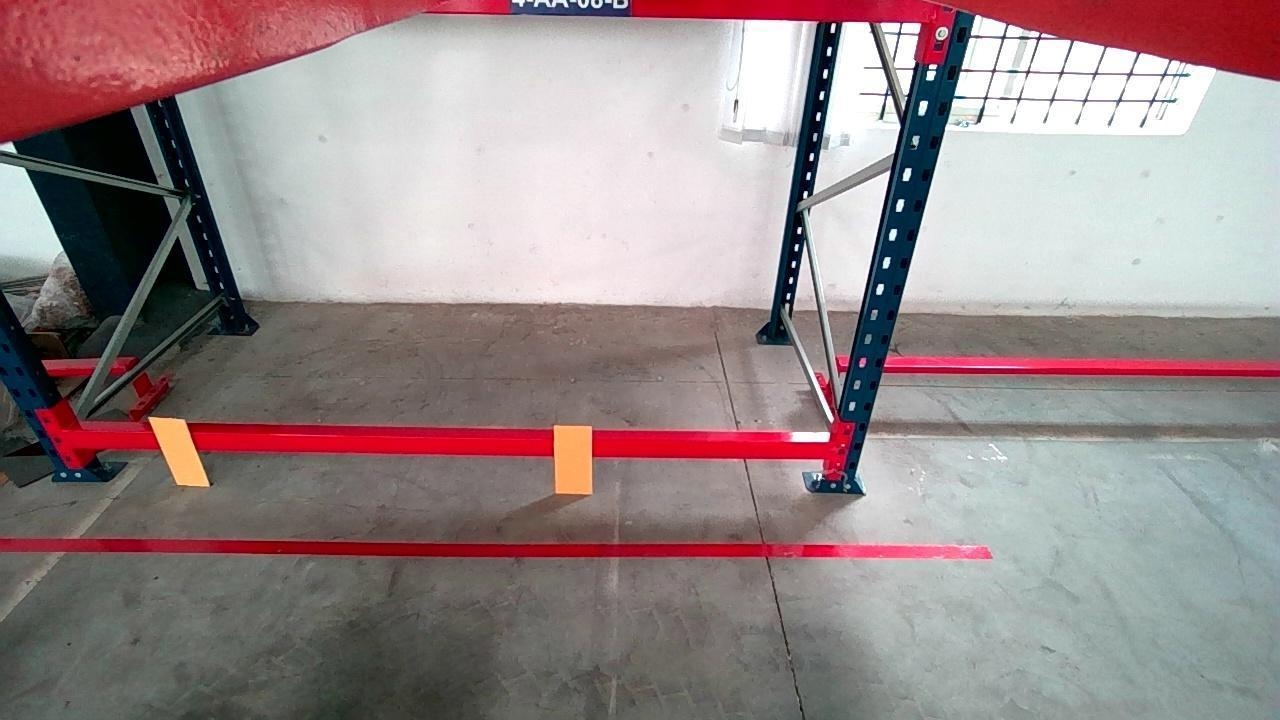h_rack: (56, 431, 845, 457)
orange_strip: (147, 420, 211, 486), (552, 424, 590, 495)
red_line: (0, 535, 993, 560)
